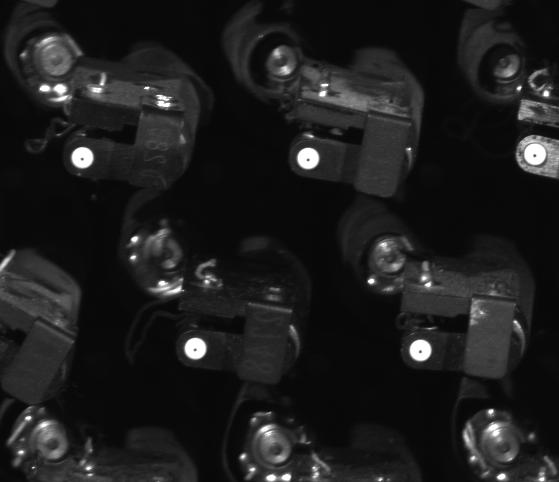fiber: (518, 141, 552, 171), (293, 143, 327, 172), (66, 142, 98, 172), (181, 333, 212, 363), (405, 335, 437, 364)
